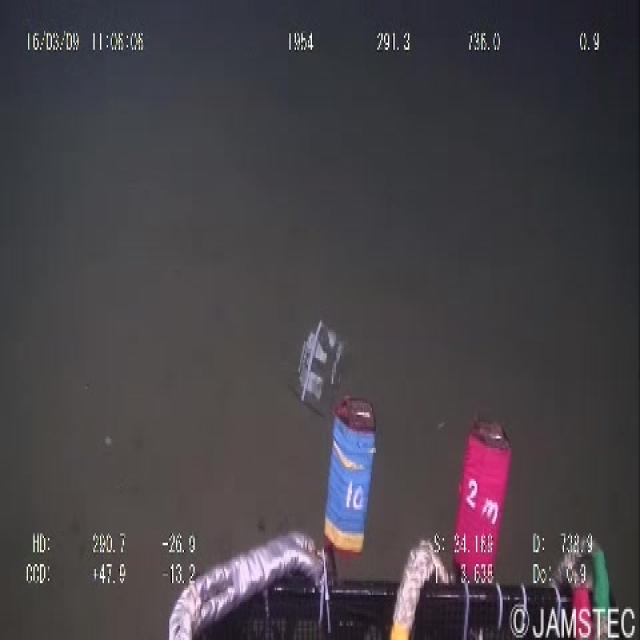plastic: (290, 306, 350, 410)
